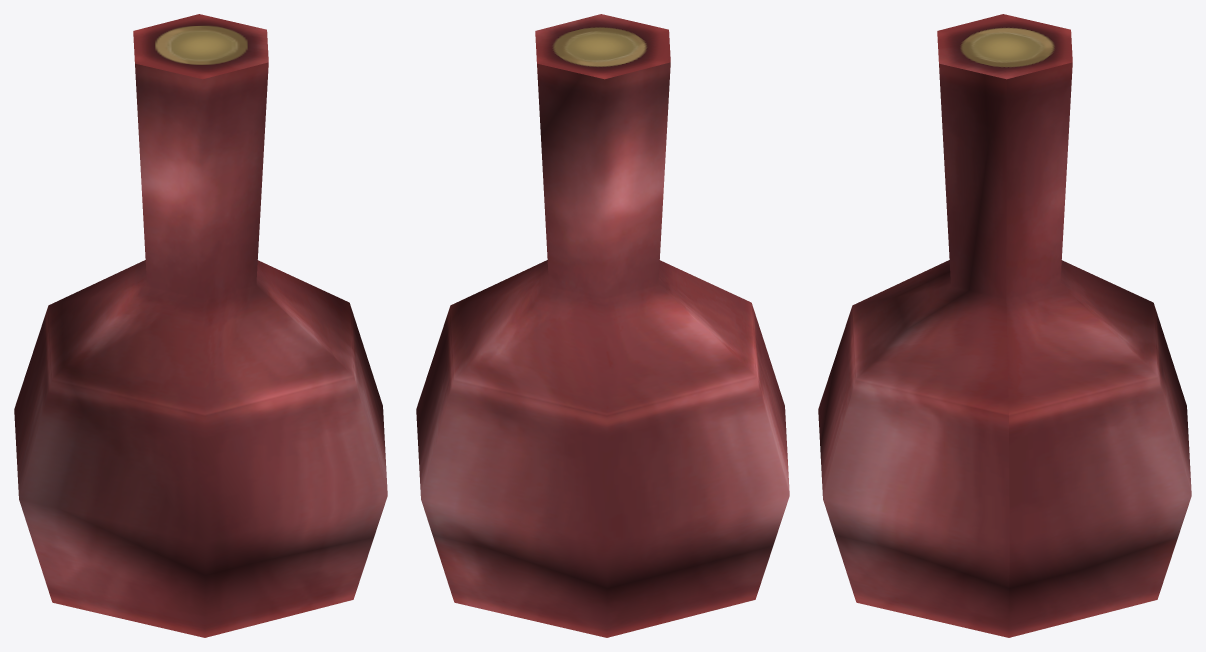
Rendered from potion_02.fbx.
The picture shows the model from 3 angles, left to right: view 1: azimuth 30°, elevation 25°; view 2: azimuth 150°, elevation 25°; view 3: azimuth 270°, elevation 25°; orthographic projection.
Visible parts, largest first — view 1: potion_02Mesh; view 2: potion_02Mesh; view 3: potion_02Mesh.
Part boxes in pixels (bbox=[...]): potion_02Mesh: bbox=[14, 14, 387, 637]; potion_02Mesh: bbox=[416, 14, 789, 637]; potion_02Mesh: bbox=[818, 14, 1191, 637].
Size of the model in its own units: 0.3529 by 0.4735 by 0.3096.
